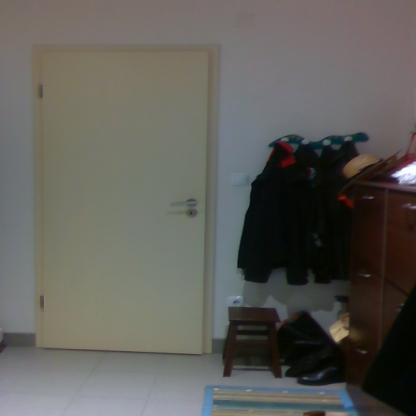door: (44, 53, 202, 354)
hinged: (36, 82, 44, 98), (38, 294, 46, 310)
lever: (166, 200, 200, 206)
